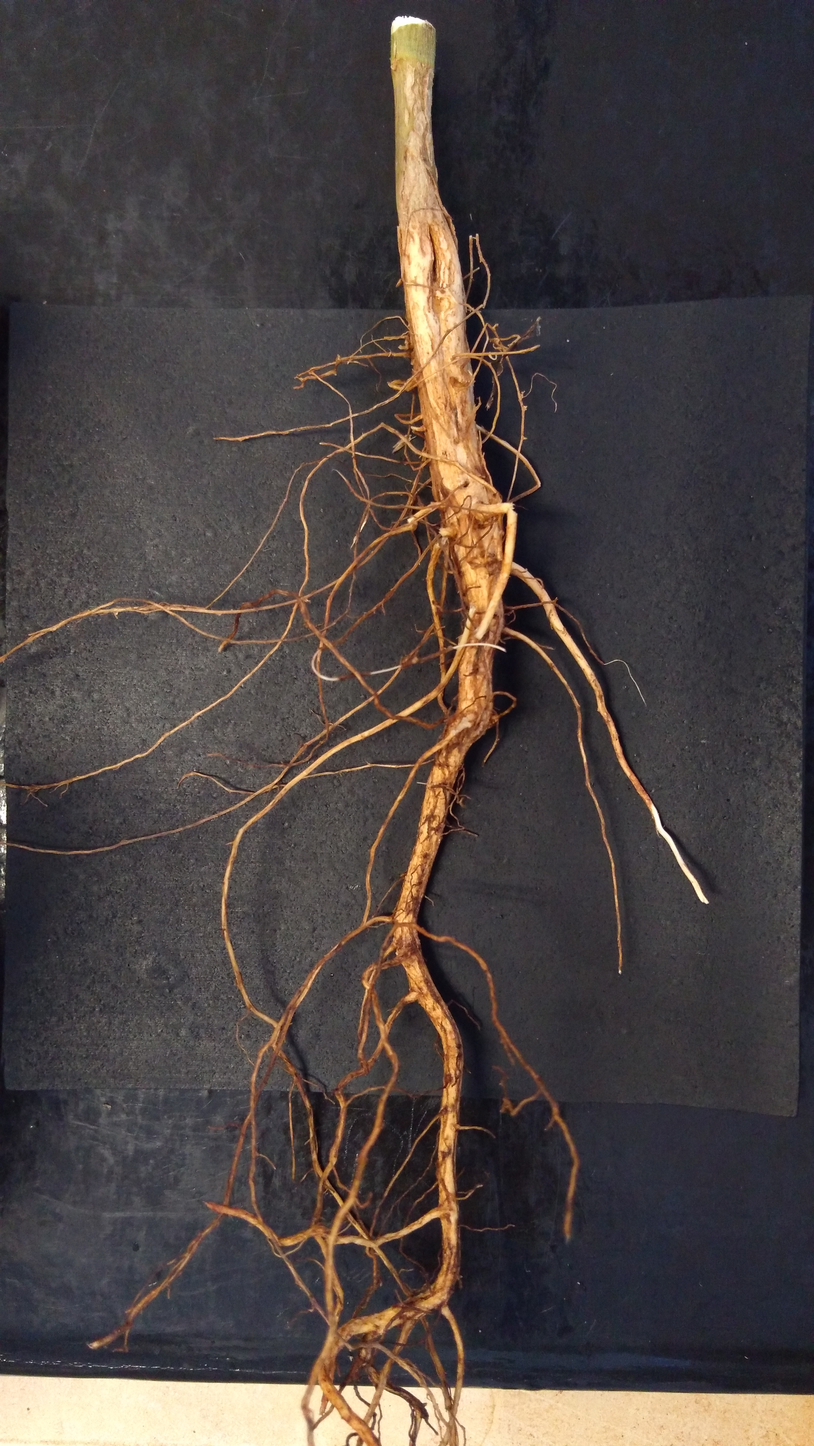nodule: (442, 713, 468, 747), (485, 708, 501, 730), (359, 1346, 373, 1366), (403, 376, 418, 393), (404, 333, 413, 350)
